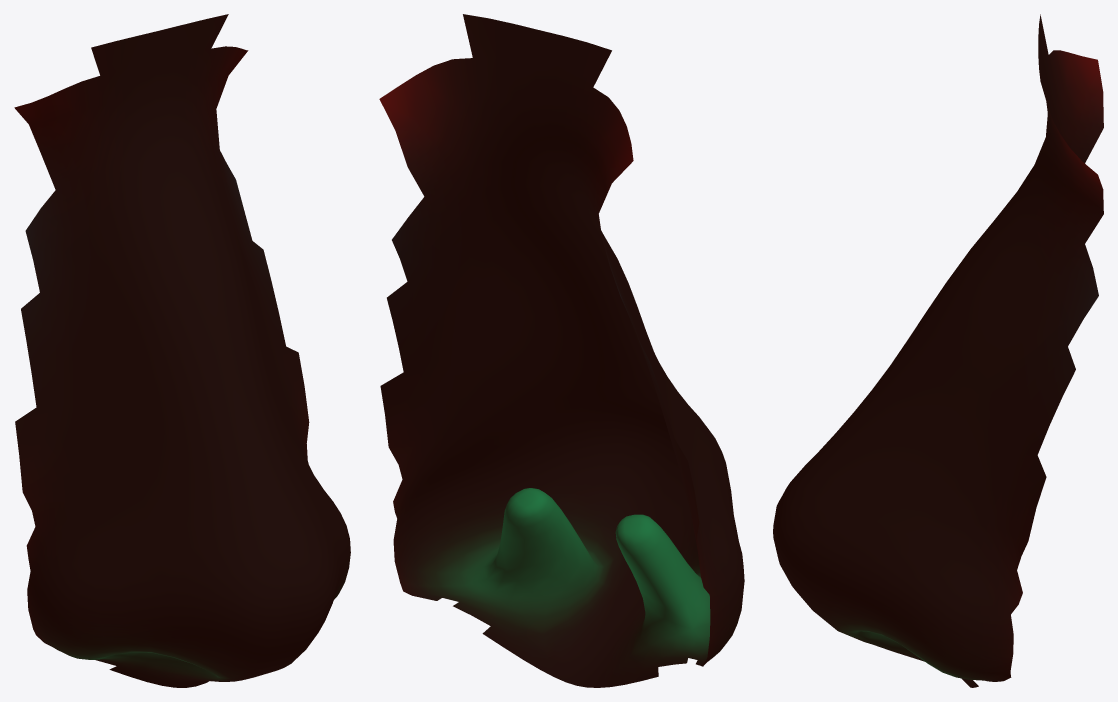
The model's file is nez00.dae.dae.
The picture shows the model from 3 angles, left to right: view 1: azimuth 30°, elevation 25°; view 2: azimuth 150°, elevation 25°; view 3: azimuth 270°, elevation 25°; orthographic projection. The views are drawn at different scales.
Visible parts, largest first — view 1: Object001; view 2: Object001; view 3: Object001.
Part boxes in pixels (x1,y1,x2,y2): Object001: [14, 14, 350, 687]; Object001: [379, 14, 744, 687]; Object001: [773, 14, 1103, 687].
Size of the model in its own units: 3.19 by 3.06 by 6.47.
